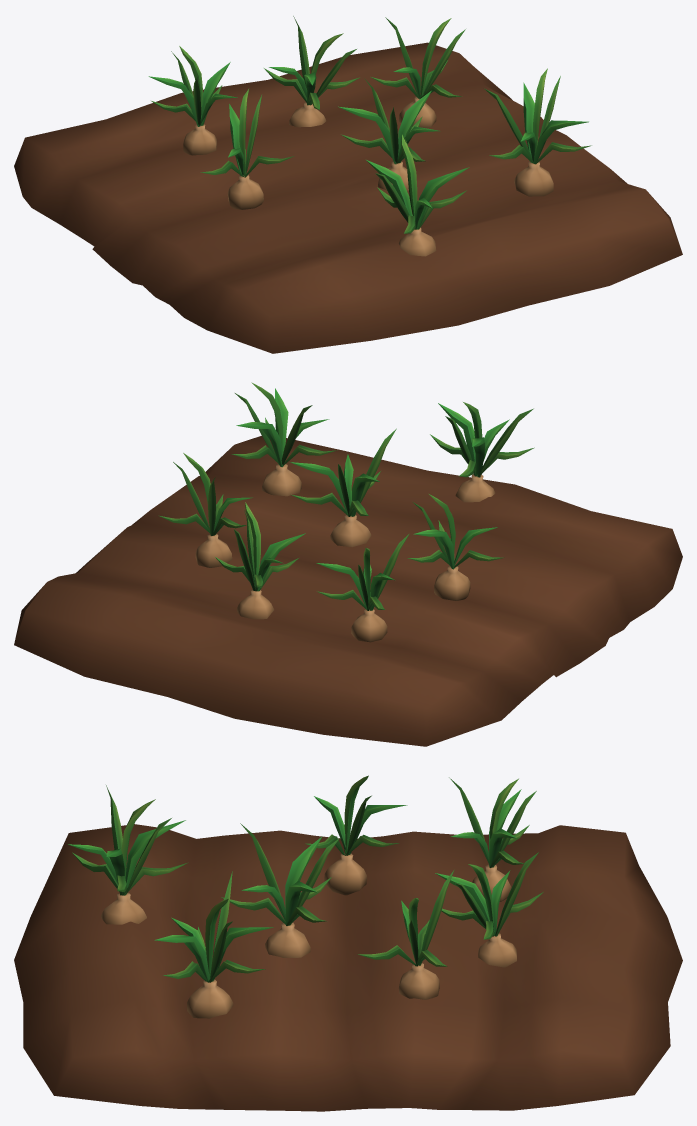
The model's file is SM_PlantSoil_Onion_Lv4.fbx.
3 renders of one model, top to bottom at view 1: azimuth 30°, elevation 25°; view 2: azimuth 150°, elevation 25°; view 3: azimuth 270°, elevation 25°, orthographic. The views are drawn at different scales.
Visible parts, largest first — view 1: SM_PlantSoil_Onion_Lv4; view 2: SM_PlantSoil_Onion_Lv4; view 3: SM_PlantSoil_Onion_Lv4.
Part boxes in pixels (x1,y1,x2,y2): SM_PlantSoil_Onion_Lv4: (14, 16, 682, 353); SM_PlantSoil_Onion_Lv4: (14, 382, 682, 746); SM_PlantSoil_Onion_Lv4: (14, 775, 682, 1111).
Size of the model in its own units: 96.14 by 28.41 by 103.
